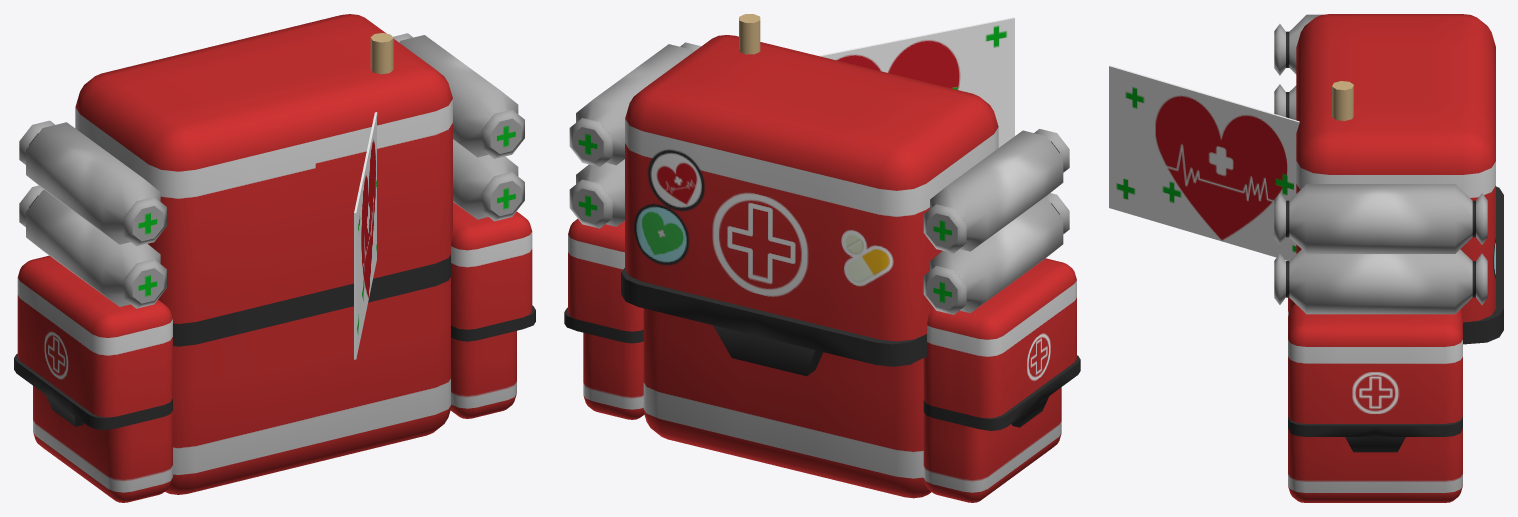
The model's file is BackPack03_Anim.fbx.
The picture shows the model from 3 angles, left to right: view 1: azimuth 30°, elevation 25°; view 2: azimuth 150°, elevation 25°; view 3: azimuth 270°, elevation 25°; orthographic projection. The views are drawn at different scales.
Parts seen in each view (by area): view 1: HealPack, Poll; view 2: HealPack, Poll; view 3: HealPack, Poll.
Boxes of the visible parts, x1=… form: HealPack: x1=14, y1=14, x2=535, y2=502; Poll: x1=354, y1=33, x2=393, y2=359; HealPack: x1=564, y1=35, x2=1080, y2=502; Poll: x1=739, y1=14, x2=1014, y2=147; HealPack: x1=1274, y1=14, x2=1503, y2=502; Poll: x1=1109, y1=65, x2=1353, y2=260.
Bounding box in the file's own units: 222 × 190 × 177.
